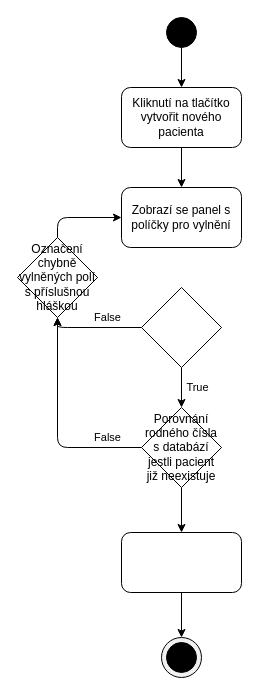
Some shapes in this 259 by 695 pixel diagram are drawn without their labels. The shapes that lost their labels are listed below. From the top down, each one's centre as x and y in pixels, then its label:
At (181,327): "Validace zadaných udajů".
At (181,562): "Zobrazení zdravotní karty pacienta".
